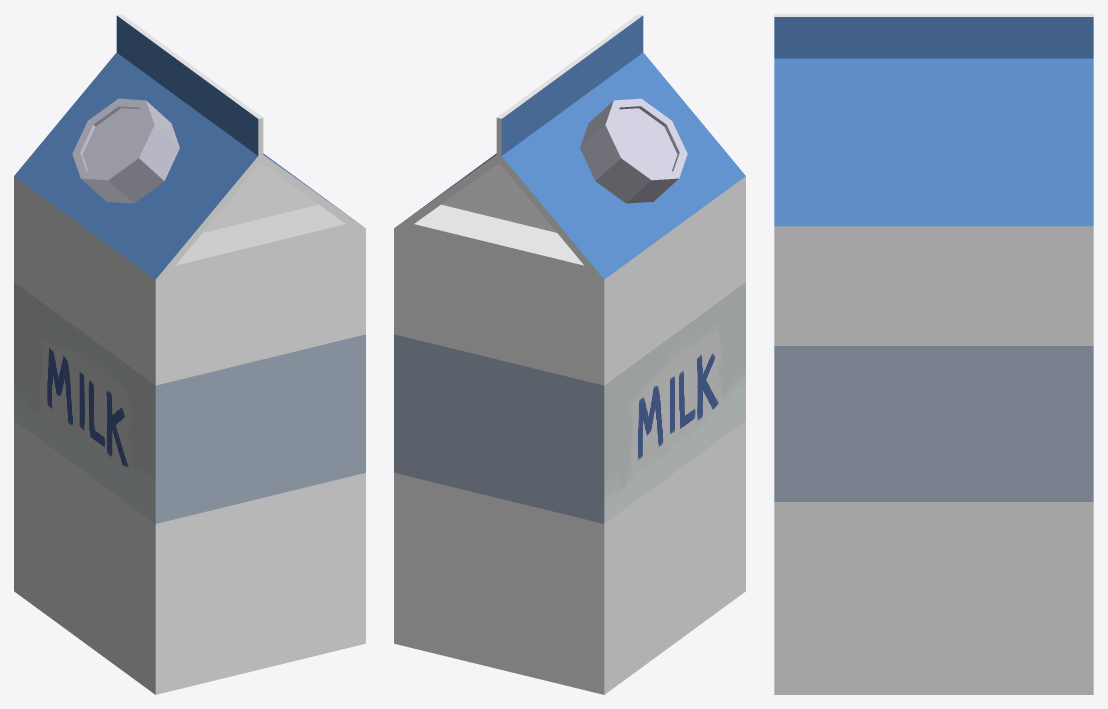
Rendered from milk_top_carton_joined.glb.
The picture shows the model from 3 angles, left to right: view 1: azimuth 30°, elevation 25°; view 2: azimuth 150°, elevation 25°; view 3: azimuth 270°, elevation 25°; orthographic projection. The views are drawn at different scales.
Parts seen in each view (by area): view 1: carton; view 2: carton; view 3: carton.
Boxes of the visible parts, left/top/right/bottom form: carton: left=14, top=14, right=365, bottom=694; carton: left=394, top=14, right=745, bottom=694; carton: left=774, top=14, right=1093, bottom=694.
Size of the model in its own units: 1.82 by 4.48 by 2.09.
Materials: 6 (1 with a texture image).
